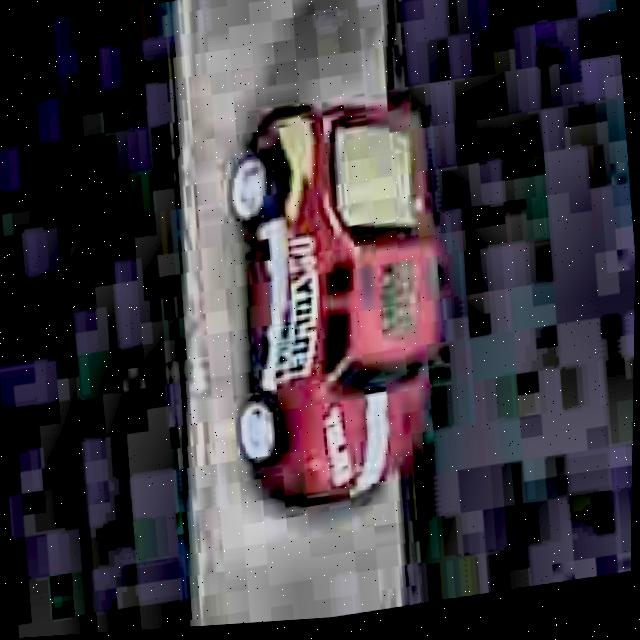car: (206, 82, 464, 520)
